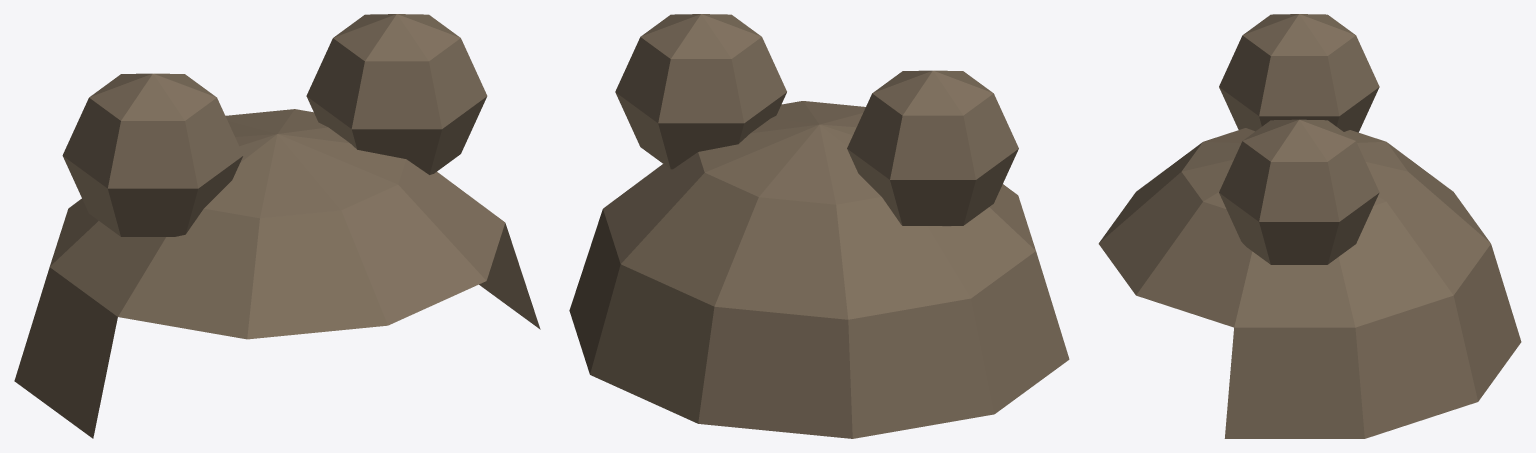
The model's file is twin_buns.glb.
The picture shows the model from 3 angles, left to right: view 1: azimuth 30°, elevation 25°; view 2: azimuth 150°, elevation 25°; view 3: azimuth 270°, elevation 25°; orthographic projection. The views are drawn at different scales.
Visible parts, largest first — view 1: cap, bun, bun.001; view 2: cap, bun, bun.001; view 3: cap, bun.001, bun.
Boxes of the visible parts, <box> form: cap: <box>14,109,540,438</box>; bun: <box>62,73,243,237</box>; bun.001: <box>306,14,487,174</box>; cap: <box>569,101,1069,438</box>; bun: <box>847,70,1018,226</box>; bun.001: <box>615,14,786,169</box>; cap: <box>1098,128,1521,438</box>; bun.001: <box>1219,119,1379,264</box>; bun: <box>1219,14,1379,132</box>.
Bounding box in the file's own units: 0.5136 × 0.34 × 0.4736.
